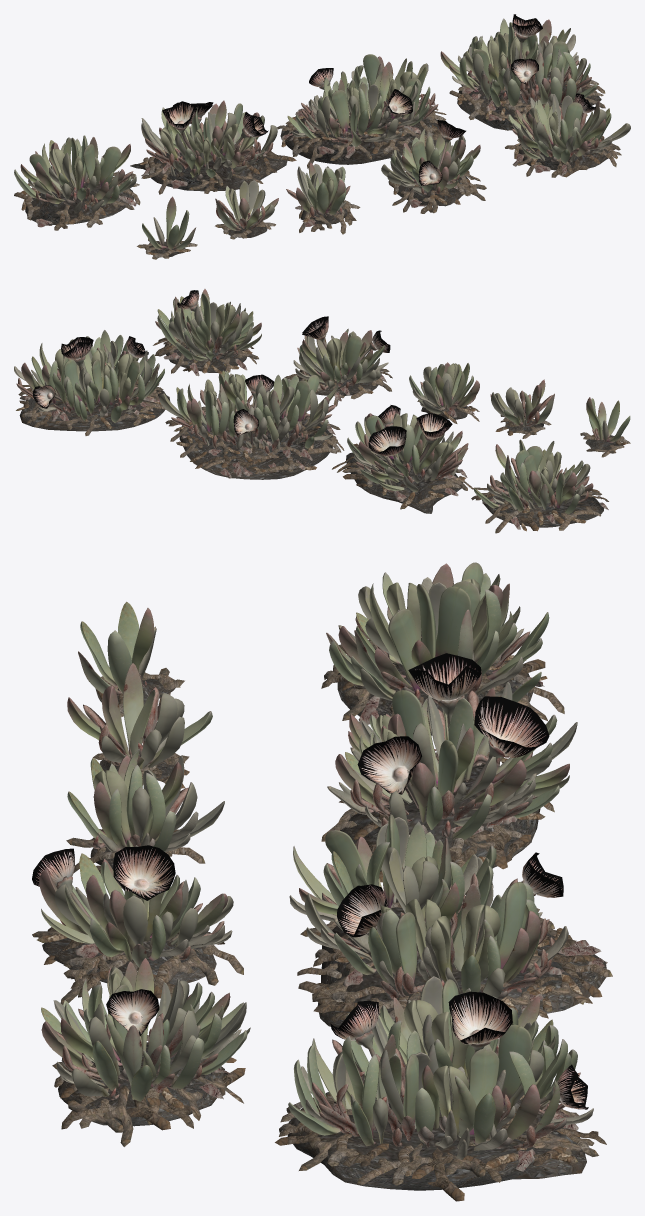
The model's file is cheiridopsis_succulent_1k.gltf.
3 views of the same model, one above another, from view 1: azimuth 30°, elevation 25°; view 2: azimuth 150°, elevation 25°; view 3: azimuth 270°, elevation 25° (orthographic). The views are drawn at different scales.
Visible parts, largest first — view 1: cheiridopsis_succulent_h_LOD0, cheiridopsis_succulent_i_LOD0, cheiridopsis_succulent_g_LOD0, cheiridopsis_succulent_f_LOD0, cheiridopsis_succulent_e_LOD0, cheiridopsis_succulent_d_LOD0, cheiridopsis_succulent_c_LOD0, cheiridopsis_succulent_b_LOD0, cheiridopsis_succulent_a_LOD0; view 2: cheiridopsis_succulent_h_LOD0, cheiridopsis_succulent_i_LOD0, cheiridopsis_succulent_g_LOD0, cheiridopsis_succulent_f_LOD0, cheiridopsis_succulent_e_LOD0, cheiridopsis_succulent_d_LOD0, cheiridopsis_succulent_c_LOD0, cheiridopsis_succulent_b_LOD0, cheiridopsis_succulent_a_LOD0; view 3: cheiridopsis_succulent_i_LOD0, cheiridopsis_succulent_h_LOD0, cheiridopsis_succulent_g_LOD0, cheiridopsis_succulent_e_LOD0, cheiridopsis_succulent_d_LOD0, cheiridopsis_succulent_f_LOD0, cheiridopsis_succulent_c_LOD0, cheiridopsis_succulent_b_LOD0, cheiridopsis_succulent_a_LOD0.
Boxes of the visible parts, box(x1,y1,x2,y2) form: cheiridopsis_succulent_h_LOD0: box(277, 54, 446, 168); cheiridopsis_succulent_i_LOD0: box(440, 14, 605, 130); cheiridopsis_succulent_g_LOD0: box(130, 100, 296, 194); cheiridopsis_succulent_f_LOD0: box(14, 135, 140, 230); cheiridopsis_succulent_e_LOD0: box(505, 93, 630, 177); cheiridopsis_succulent_d_LOD0: box(381, 120, 486, 213); cheiridopsis_succulent_c_LOD0: box(286, 162, 360, 234); cheiridopsis_succulent_b_LOD0: box(215, 180, 278, 239); cheiridopsis_succulent_a_LOD0: box(137, 196, 197, 259); cheiridopsis_succulent_h_LOD0: box(159, 370, 344, 479); cheiridopsis_succulent_i_LOD0: box(14, 330, 170, 435); cheiridopsis_succulent_g_LOD0: box(332, 405, 473, 513); cheiridopsis_succulent_f_LOD0: box(471, 439, 608, 533); cheiridopsis_succulent_e_LOD0: box(153, 289, 261, 376); cheiridopsis_succulent_d_LOD0: box(284, 316, 392, 406); cheiridopsis_succulent_c_LOD0: box(409, 362, 479, 423); cheiridopsis_succulent_b_LOD0: box(490, 379, 554, 438); cheiridopsis_succulent_a_LOD0: box(580, 397, 630, 457); cheiridopsis_succulent_i_LOD0: box(275, 976, 606, 1201); cheiridopsis_succulent_h_LOD0: box(289, 814, 612, 1027); cheiridopsis_succulent_g_LOD0: box(321, 653, 577, 894); cheiridopsis_succulent_e_LOD0: box(41, 957, 250, 1146); cheiridopsis_succulent_d_LOD0: box(32, 840, 243, 1004); cheiridopsis_succulent_f_LOD0: box(321, 562, 564, 735); cheiridopsis_succulent_c_LOD0: box(66, 749, 224, 882); cheiridopsis_succulent_b_LOD0: box(67, 663, 212, 788); cheiridopsis_succulent_a_LOD0: box(78, 601, 184, 716).
Size of the model in its own units: 2.16 by 0.2708 by 0.9586.
Materials: 2 (2 with a texture image).
